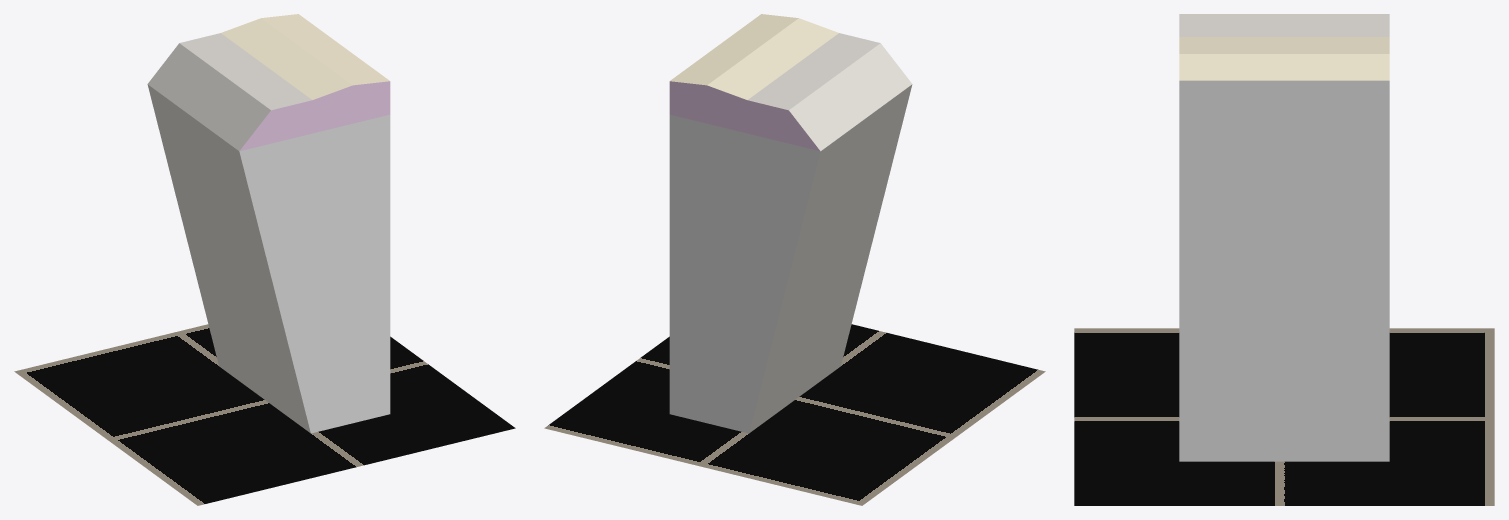
File: Path_End_Center_Top_1x1.glb
The picture shows the model from 3 angles, left to right: view 1: azimuth 30°, elevation 25°; view 2: azimuth 150°, elevation 25°; view 3: azimuth 270°, elevation 25°; orthographic projection. The views are drawn at different scales.
Visible parts, largest first — view 1: Path_End_Center_Top_1x1, Floor; view 2: Path_End_Center_Top_1x1, Floor; view 3: Path_End_Center_Top_1x1, Floor.
Part boxes in pixels (left/top/right/bottom): Path_End_Center_Top_1x1: left=147, top=14, right=390, bottom=433; Floor: left=14, top=324, right=515, bottom=505; Path_End_Center_Top_1x1: left=669, top=14, right=912, bottom=433; Floor: left=544, top=324, right=1045, bottom=505; Path_End_Center_Top_1x1: left=1179, top=14, right=1389, bottom=461; Floor: left=1074, top=328, right=1494, bottom=505.
Size of the model in its own units: 200 by 203 by 200.
5 materials, 1 textured.
